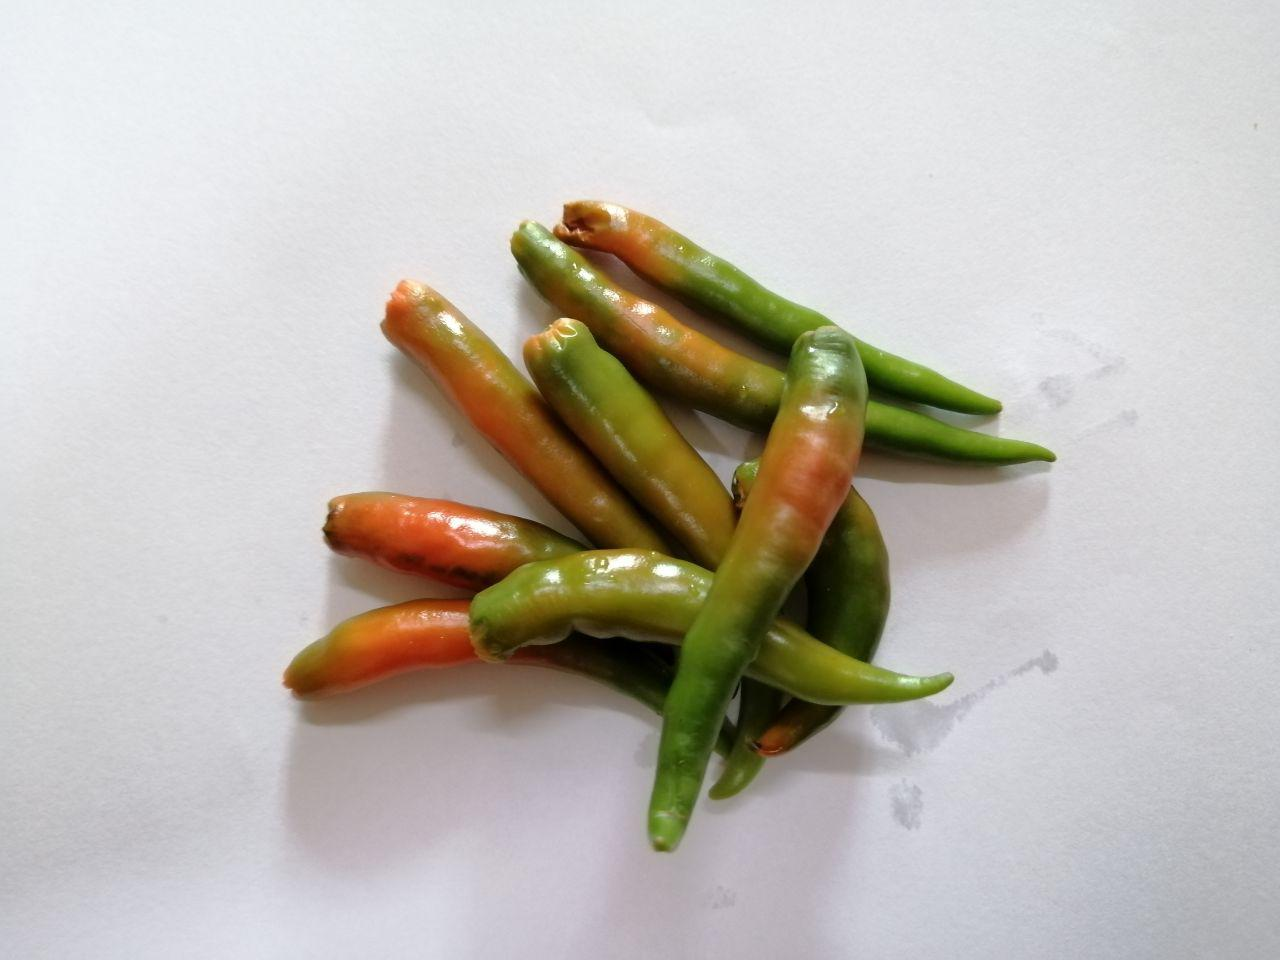lada hijau: (619, 311, 902, 892), (544, 183, 1027, 431), (455, 536, 984, 755)
